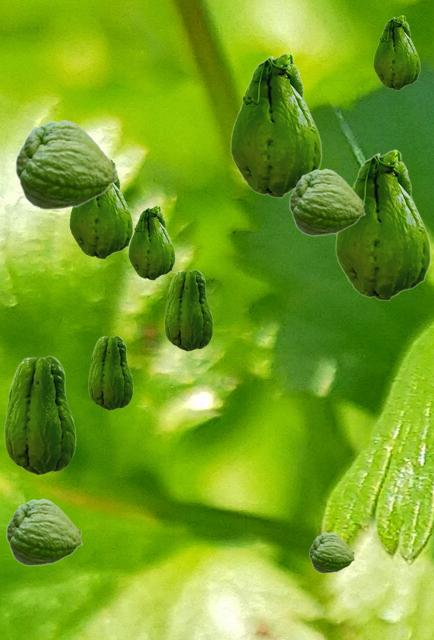sayote: (335, 149, 430, 300), (230, 52, 321, 197), (15, 119, 117, 209), (4, 355, 75, 474), (69, 158, 132, 258), (6, 498, 82, 565), (289, 168, 365, 235), (164, 269, 212, 350), (373, 15, 419, 89), (128, 205, 174, 279), (88, 335, 132, 409), (309, 532, 354, 572)
